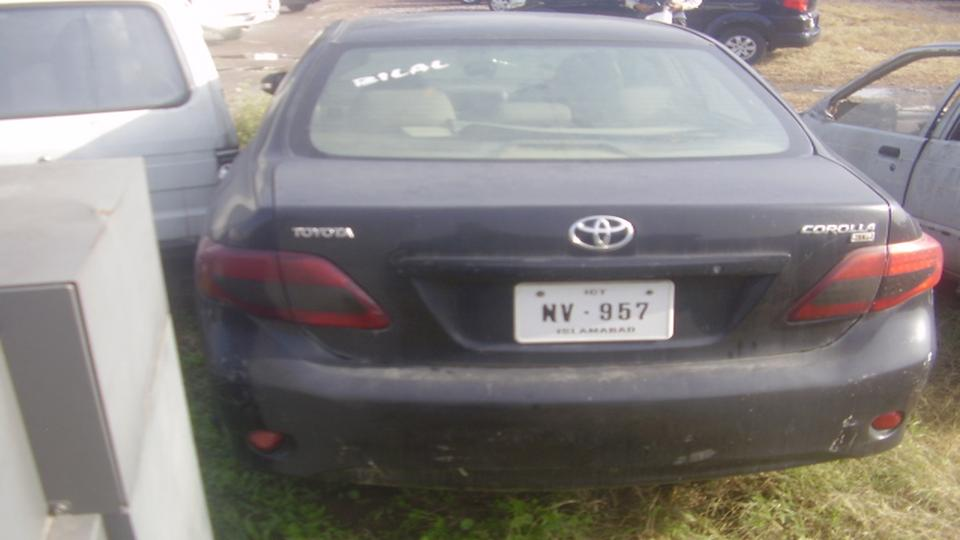NumberPlate: (518, 278, 680, 341)
